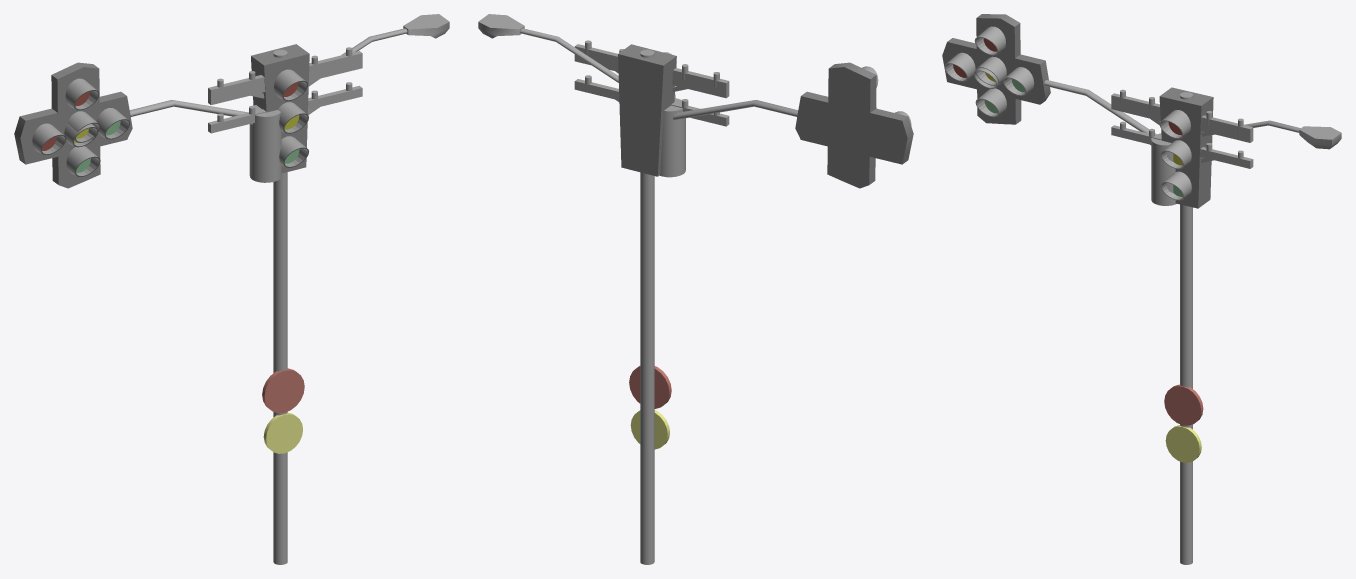
The model's file is all_poles_export.fbx.
3 renders of one model, left to right at view 1: azimuth 30°, elevation 25°; view 2: azimuth 150°, elevation 25°; view 3: azimuth 330°, elevation 25°, orthographic. The views are drawn at different scales.
Visible parts, largest first — view 1: TrafficPole3, TrafficePole2, TrafficPole1, Pole2, stopSign1, Pole1, Pole3; view 2: TrafficPole3, TrafficePole2, TrafficPole1, Pole2, Pole1, Pole3, stopSign1; view 3: TrafficPole3, TrafficePole2, TrafficPole1, Pole2, stopSign1, Pole1, Pole3.
Part boxes in pixels (<box>): TrafficPole3: <box>251,44,309,564</box>; TrafficePole2: <box>51,49,287,564</box>; TrafficPole1: <box>14,51,287,164</box>; Pole2: <box>208,47,362,182</box>; stopSign1: <box>263,372,302,453</box>; Pole1: <box>208,56,362,151</box>; Pole3: <box>341,14,449,55</box>; TrafficPole3: <box>618,44,676,564</box>; TrafficePole2: <box>640,49,878,564</box>; TrafficPole1: <box>673,91,913,164</box>; Pole2: <box>574,40,729,177</box>; Pole1: <box>574,50,729,145</box>; Pole3: <box>478,14,618,82</box>; stopSign1: <box>630,368,669,449</box>; TrafficPole3: <box>1159,87,1213,564</box>; TrafficePole2: <box>974,14,1192,564</box>; TrafficPole1: <box>942,38,1192,562</box>; Pole2: <box>1111,89,1253,205</box>; stopSign1: <box>1165,387,1201,462</box>; Pole1: <box>1111,98,1253,176</box>; Pole3: <box>1207,120,1341,149</box>.
Bounding box in the file's own units: 28.09 × 34.32 × 3.22.
